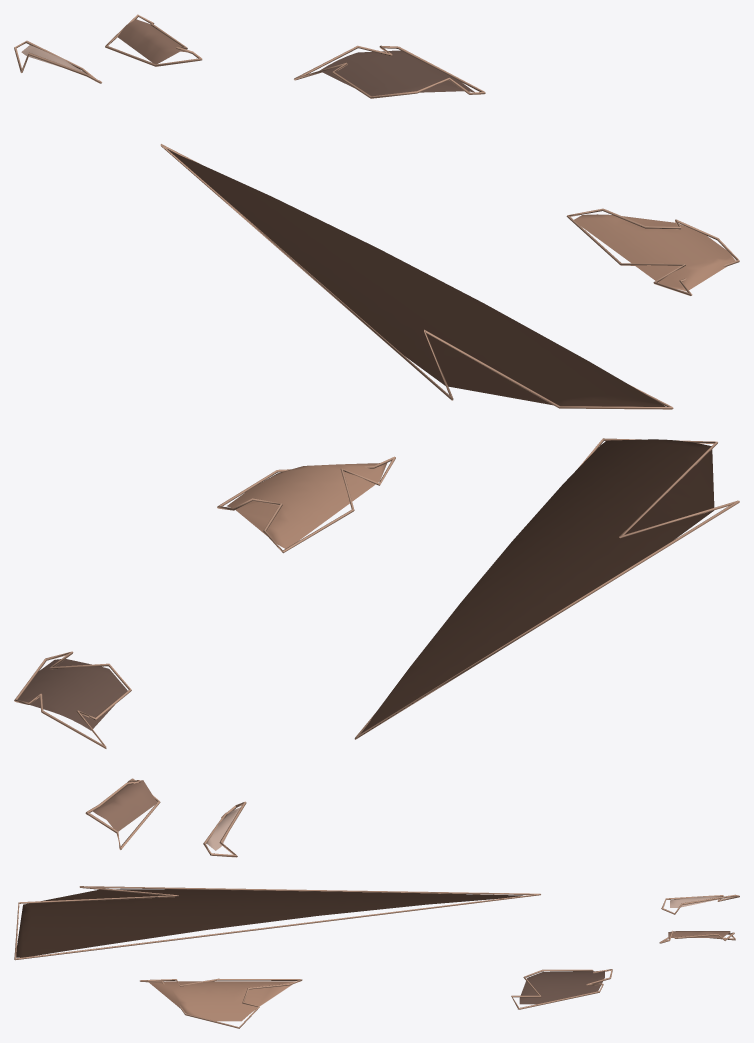
The model's file is lelu_garment_reconstructed.glb.
The picture shows the model from 3 angles, top to bottom: view 1: azimuth 30°, elevation 25°; view 2: azimuth 150°, elevation 25°; view 3: azimuth 270°, elevation 25°; orthographic projection. The views are drawn at different scales.
Parts seen in each view (by area): view 1: lelu_garment; view 2: lelu_garment; view 3: lelu_garment.
Boxes of the visible parts, bbox=[...] form: lelu_garment: bbox=[14, 14, 739, 409]; lelu_garment: bbox=[14, 438, 739, 857]; lelu_garment: bbox=[14, 886, 739, 1028].
Size of the model in its own units: 1.13 by 0.0799 by 2.64.
